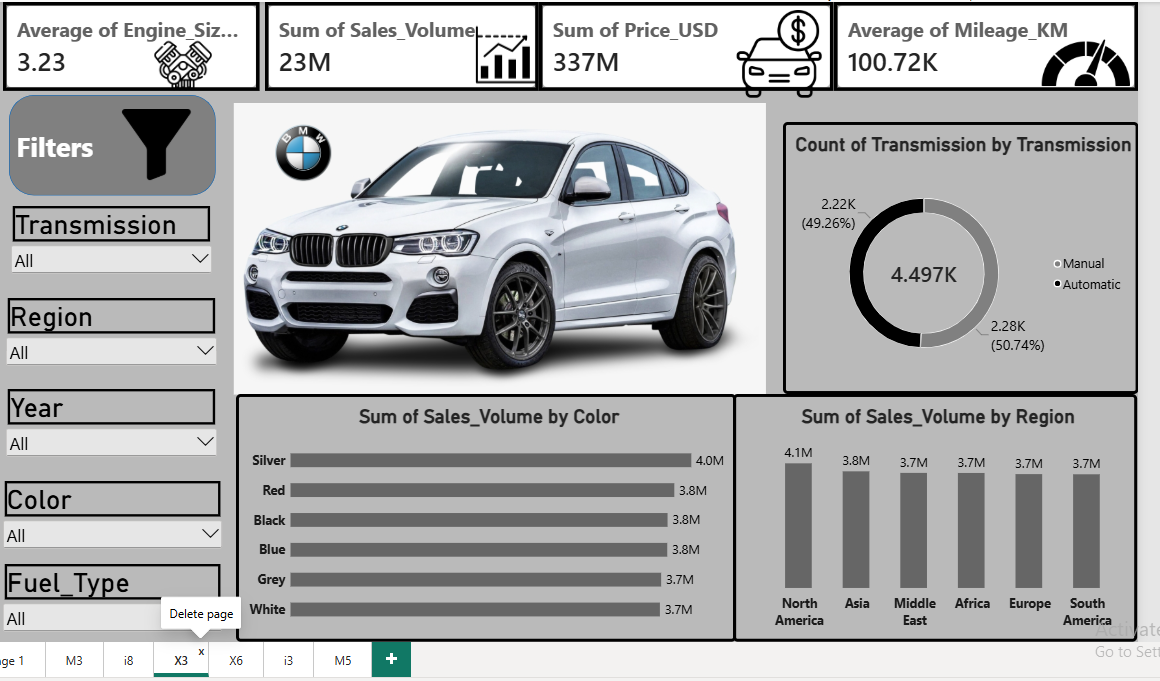

The dashboard page shown, as its layout file describes it:
{"tool":"powerbi","page":{"name":"X3","canvas":[1920,1080],"ordinal":3},"visuals":[{"type":"image","box":[364.3,169.6,958.1,491.6],"z":0},{"type":"slicer","fields":{"Values":["BMW_Car_Sales_Classification (1).Year"]},"box":[5.8,653.5,366.3,129.2],"z":1000},{"type":"slicer","fields":{"Values":["BMW_Car_Sales_Classification (1).Region"]},"box":[5.8,499.3,366.3,129.2],"z":2000},{"type":"slicer","fields":{"Values":["BMW_Car_Sales_Classification (1).Transmission"]},"box":[13.5,345.1,348.9,129.2],"z":3000},{"type":"slicer","fields":{"Values":["BMW_Car_Sales_Classification (1).Color"]},"box":[0,807.7,379.8,115.7],"z":4000},{"type":"slicer","fields":{"Values":["BMW_Car_Sales_Classification (1).Fuel_Type"]},"box":[0,948.4,379.8,131.1],"z":5000},{"type":"shape","box":[15.4,156.1,348.9,169.6],"z":6000},{"type":"image","box":[165.8,181.2,196.6,119.5],"z":7000},{"type":"image","box":[379.8,169.6,264.1,167.7],"z":8000},{"type":"barChart","fields":{"Category":["BMW_Car_Sales_Classification (1).Color"],"Y":["Sum(BMW_Car_Sales_Classification (1).Sales_Volume)"]},"box":[399,661.2,844.3,418.3],"z":9000},{"type":"columnChart","fields":{"Category":["BMW_Car_Sales_Classification (1).Region"],"Y":["Sum(BMW_Car_Sales_Classification (1).Sales_Volume)"]},"box":[1237.6,661.2,682.4,418.3],"z":10000},{"type":"donutChart","fields":{"Category":["BMW_Car_Sales_Classification (1).Transmission"],"Y":["CountNonNull(BMW_Car_Sales_Classification (1).Transmission)"]},"box":[1320.5,202.4,599.5,458.8],"z":11000},{"type":"cardVisual","fields":{"Data":["Sum(BMW_Car_Sales_Classification (1).Sales_Volume)"]},"box":[447.2,0,462.7,150.4],"z":12000},{"type":"cardVisual","fields":{"Data":["Sum(BMW_Car_Sales_Classification (1).Price_USD)"]},"box":[909.9,0,497.3,150.4],"z":13000},{"type":"cardVisual","fields":{"Data":["Avg(BMW_Car_Sales_Classification (1).Mileage_KM)"]},"box":[1407.2,0,513,150],"z":14000},{"type":"image","box":[1224.1,13.5,183.1,148.4],"z":15000},{"type":"image","box":[801.9,0,108,177.3],"z":17000},{"type":"image","box":[1744.6,28.9,175.4,148.4],"z":18000},{"type":"cardVisual","fields":{"Data":["Avg(BMW_Car_Sales_Classification (1).Engine_Size_L)"]},"box":[5.8,0,433.7,150.4],"z":19000},{"type":"image","box":[165.8,59.8,287.2,96.4],"z":20000}]}

Visuals, with their boxes on the page's 1920x1080 design canvas (x1, y1, x2, y2). These are canvas units, not pixel positions in the 1160x681 screenshot, which may show the page scaled, cropped or inside an application window:
image: 364, 170, 1322, 661
slicer - BMW_Car_Sales_Classification (1).Year: 6, 654, 372, 783
slicer - BMW_Car_Sales_Classification (1).Region: 6, 499, 372, 628
slicer - BMW_Car_Sales_Classification (1).Transmission: 14, 345, 362, 474
slicer - BMW_Car_Sales_Classification (1).Color: 0, 808, 380, 923
slicer - BMW_Car_Sales_Classification (1).Fuel_Type: 0, 948, 380, 1080
shape: 15, 156, 364, 326
image: 166, 181, 362, 301
image: 380, 170, 644, 337
barChart - BMW_Car_Sales_Classification (1).Color x Sum(BMW_Car_Sales_Classification (1).Sales_Volume): 399, 661, 1243, 1080
columnChart - BMW_Car_Sales_Classification (1).Region x Sum(BMW_Car_Sales_Classification (1).Sales_Volume): 1238, 661, 1920, 1080
donutChart - BMW_Car_Sales_Classification (1).Transmission x CountNonNull(BMW_Car_Sales_Classification (1).Transmission): 1320, 202, 1920, 661
cardVisual - Sum(BMW_Car_Sales_Classification (1).Sales_Volume): 447, 0, 910, 150
cardVisual - Sum(BMW_Car_Sales_Classification (1).Price_USD): 910, 0, 1407, 150
cardVisual - Avg(BMW_Car_Sales_Classification (1).Mileage_KM): 1407, 0, 1920, 150
image: 1224, 14, 1407, 162
image: 802, 0, 910, 177
image: 1745, 29, 1920, 177
cardVisual - Avg(BMW_Car_Sales_Classification (1).Engine_Size_L): 6, 0, 440, 150
image: 166, 60, 453, 156
